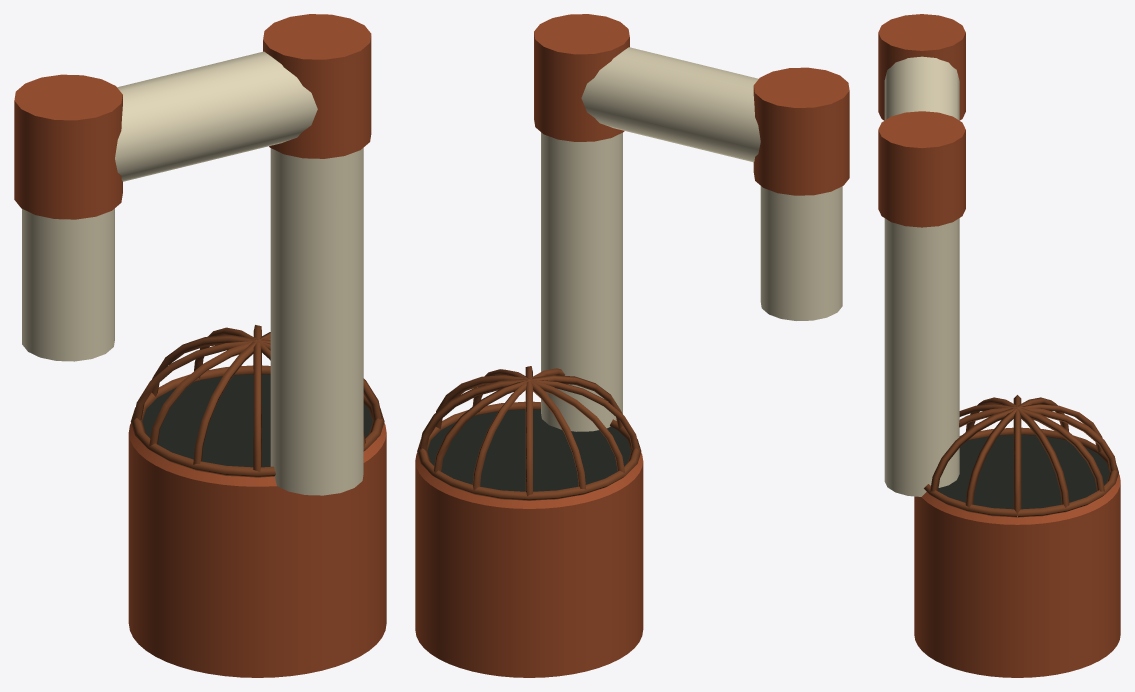
File: u500_fan.obj
The picture shows the model from 3 angles, left to right: view 1: azimuth 30°, elevation 25°; view 2: azimuth 150°, elevation 25°; view 3: azimuth 270°, elevation 25°; orthographic projection. The views are drawn at different scales.
Visible parts, largest first — view 1: u500_fan; view 2: u500_fan; view 3: u500_fan.
Boxes of the visible parts, <box> form: u500_fan: <box>14,14,386,677</box>; u500_fan: <box>415,14,849,677</box>; u500_fan: <box>878,14,1120,677</box>.
Size of the model in its own units: 2.41 by 3.56 by 1.55.
